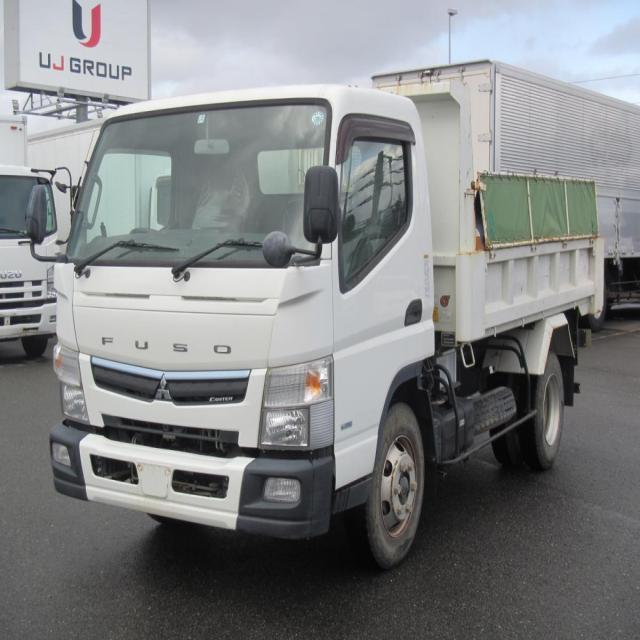trunk: (46, 83, 602, 568)
